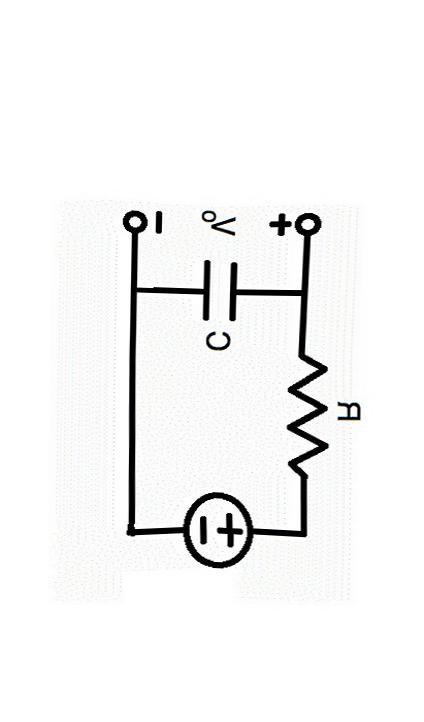Battery: (158, 474, 268, 584)
